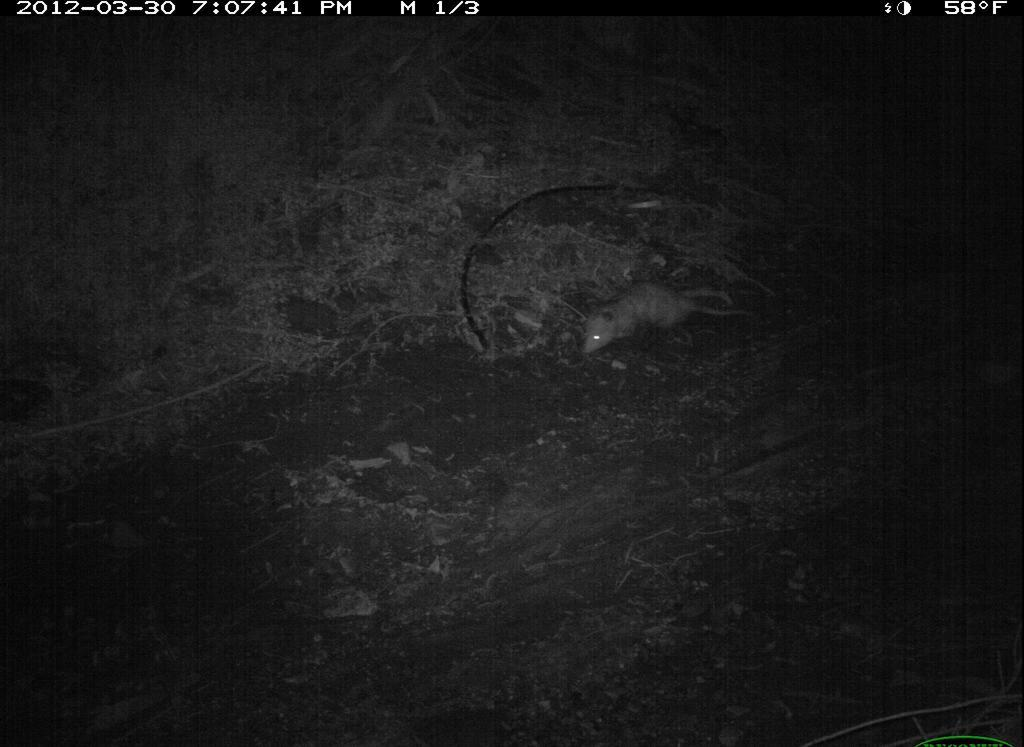opossum: (565, 273, 770, 364)
